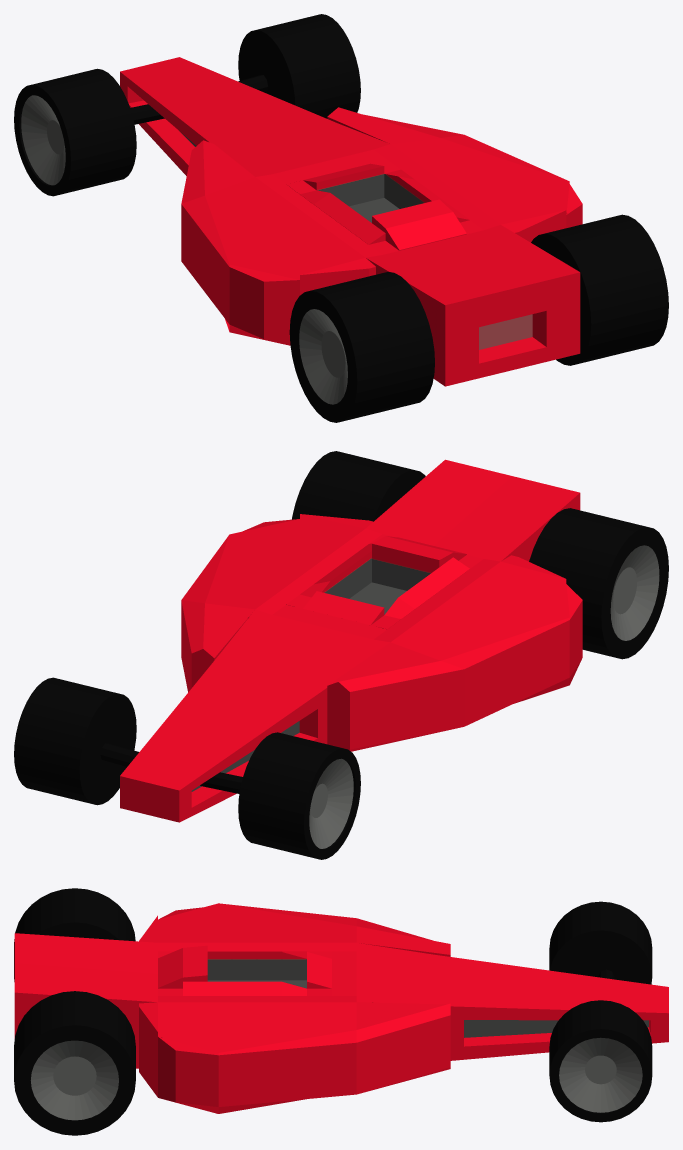
File: cart.fbx
3 views of the same model, one above another, from view 1: azimuth 30°, elevation 25°; view 2: azimuth 150°, elevation 25°; view 3: azimuth 270°, elevation 25° (orthographic). The views are drawn at different scales.
Visible parts, largest first — view 1: Cube; view 2: Cube; view 3: Cube.
Part boxes in pixels (box(x1,y1,x2,y2)): Cube: box(14, 14, 668, 422); Cube: box(14, 451, 668, 859); Cube: box(14, 888, 668, 1135).
Size of the model in its own units: 341 by 117 by 630.
1 material, 1 textured.
